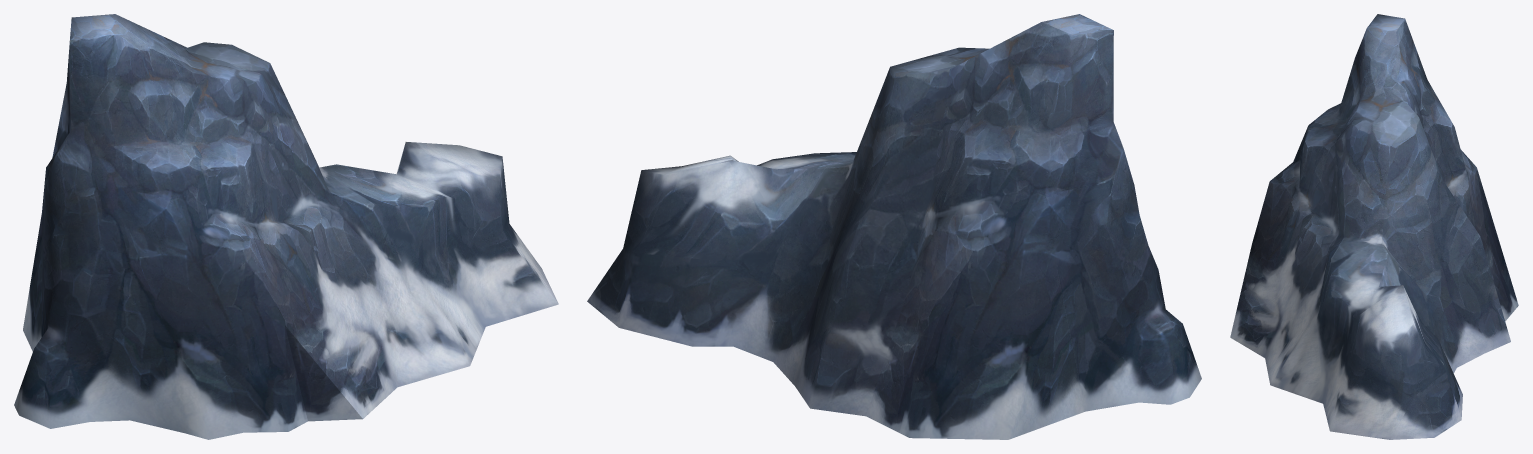
The model's file is Stone10.FBX.
3 views of the same model, side by side, from view 1: azimuth 30°, elevation 25°; view 2: azimuth 150°, elevation 25°; view 3: azimuth 270°, elevation 25° (orthographic). The views are drawn at different scales.
Parts seen in each view (by area): view 1: Stone10; view 2: Stone10; view 3: Stone10.
Part boxes in pixels (x1=…): Stone10: x1=14, y1=14, x2=558, y2=439; Stone10: x1=587, y1=14, x2=1201, y2=439; Stone10: x1=1230, y1=14, x2=1518, y2=439.
Size of the model in its own units: 678 by 424 by 429.
